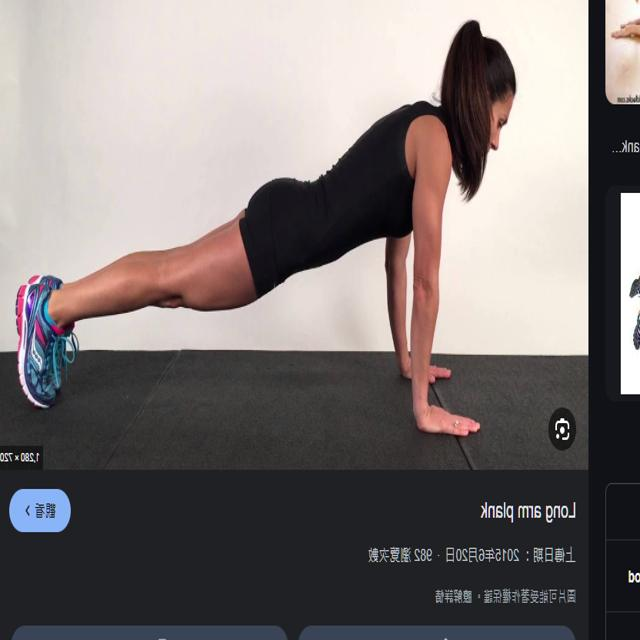Plank_Pose: (4, 14, 525, 447)
